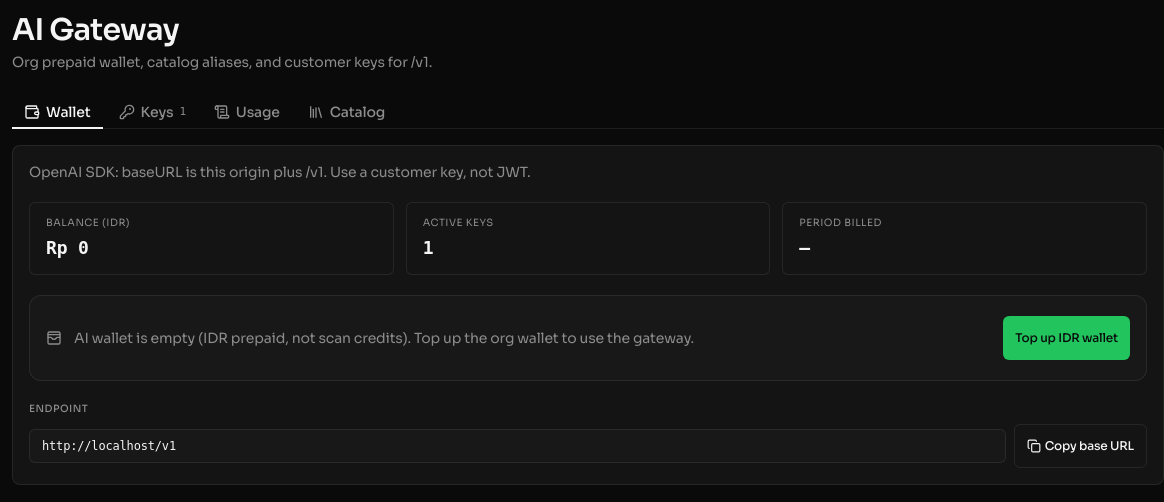
it: AI Gateway page › keeps keys card full-width and fills the create form when fewer than 3 keys
Click the tab with test id "ai-tab-keys" at (152, 112), box 107,96 -> 198,128
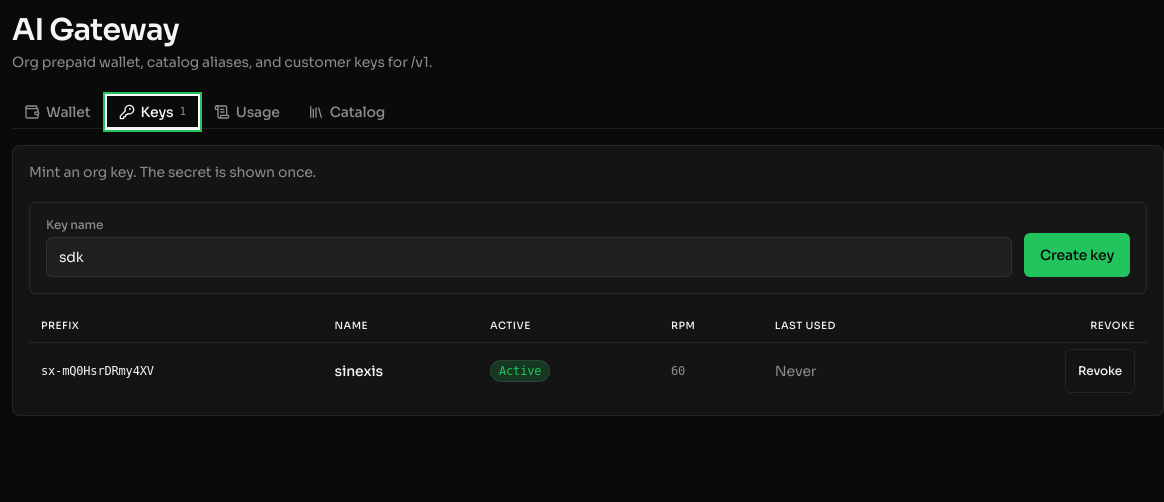
Result: the table is shown at 29,310 -> 1147,398
